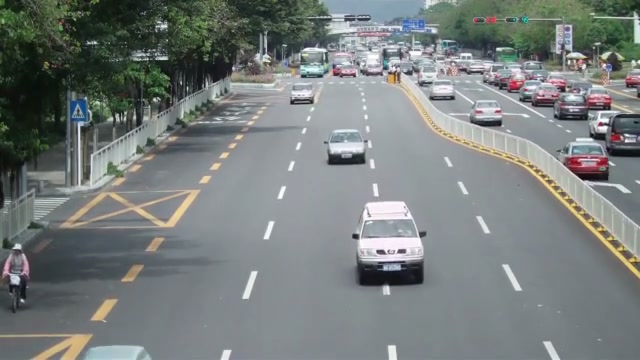bus: (299, 47, 331, 77)
car: (352, 201, 426, 285), (560, 139, 610, 179), (325, 129, 368, 165), (606, 113, 640, 156), (588, 110, 624, 138), (553, 93, 588, 120), (469, 99, 503, 126), (531, 85, 560, 107), (289, 82, 315, 105), (585, 88, 612, 110), (429, 80, 455, 101), (519, 81, 543, 102), (507, 72, 526, 92), (624, 69, 640, 89)
motorcycle: (7, 270, 28, 313)
pedestrian: (1, 244, 30, 303)
truck: (415, 61, 438, 87), (363, 53, 383, 76)
